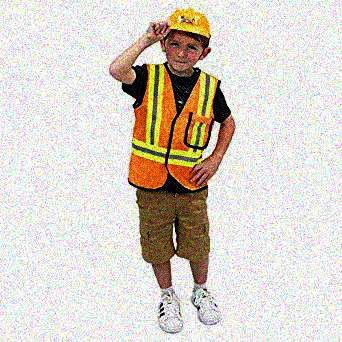helmet: (155, 7, 213, 73)
